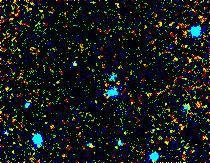star: (184, 88, 210, 118)
